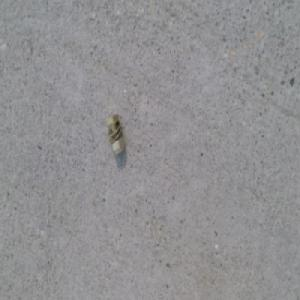BoltNutSet: (106, 117, 125, 157)
